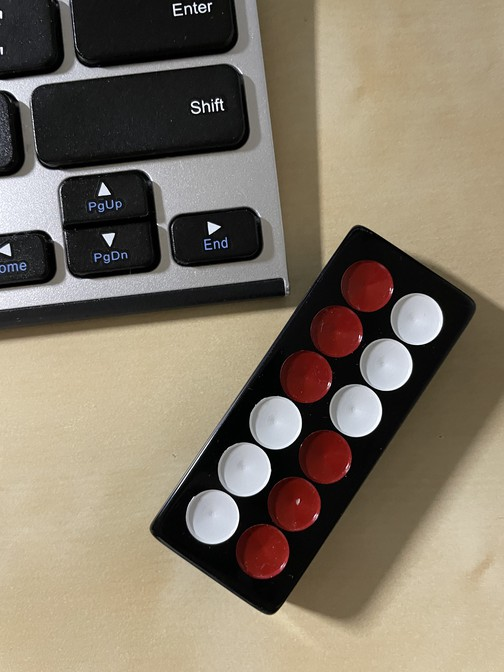heaven: (151, 226, 478, 616)
